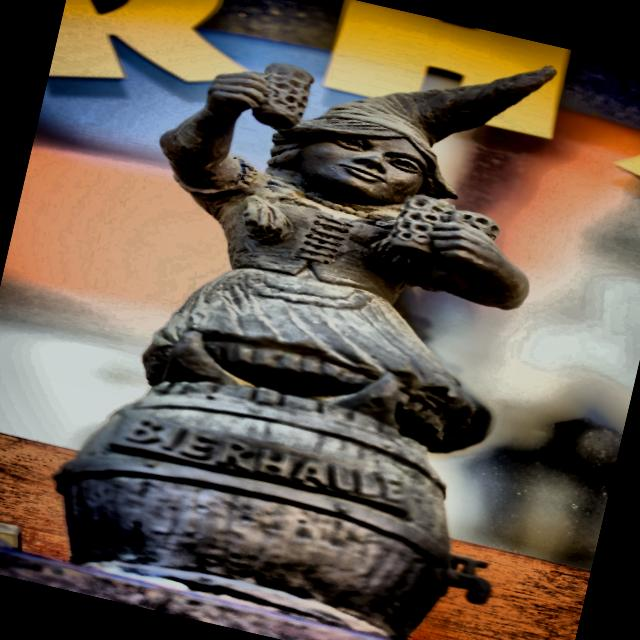Bawarka: (56, 66, 554, 639)
